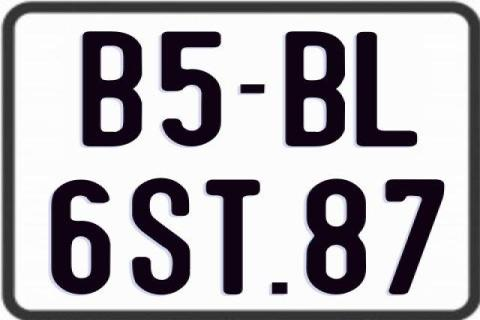0: (383, 178, 448, 298), (304, 178, 366, 298), (158, 30, 220, 146), (50, 178, 112, 294)
B: (80, 31, 142, 148), (284, 30, 346, 146)
L: (353, 32, 419, 149)
S: (129, 177, 193, 296)
T: (206, 177, 262, 293)
